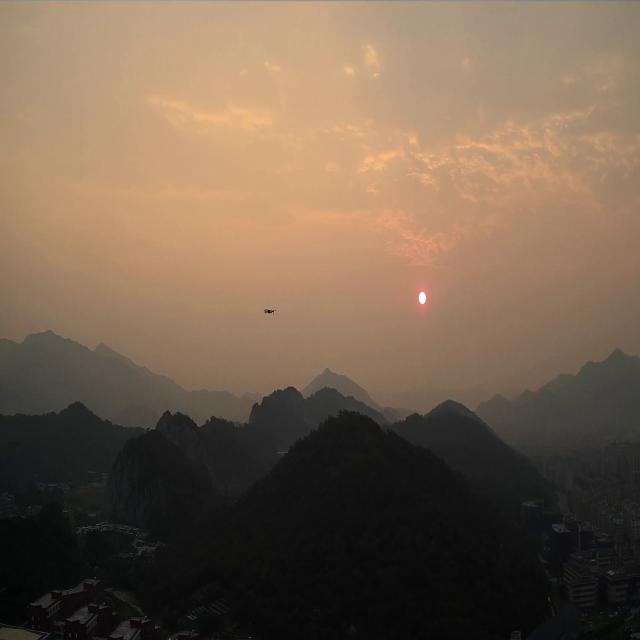drone: (263, 308, 277, 315)
